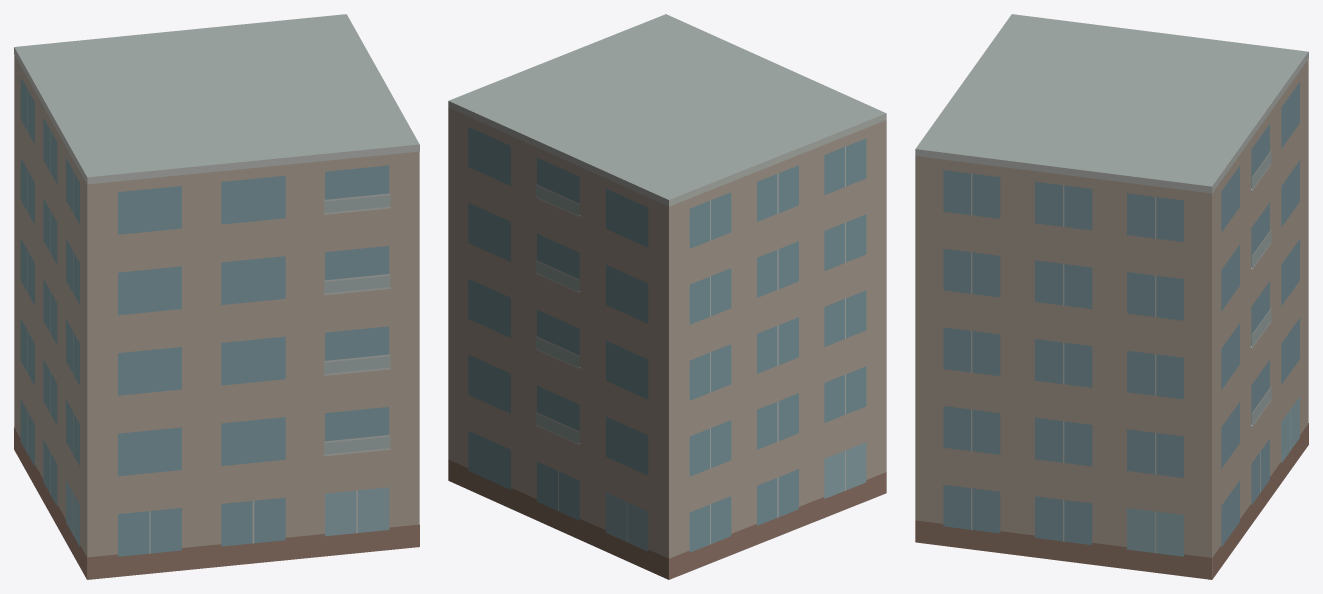
Rendered from survey-upis-32876112.glb.
3 views of the same model, side by side, from view 1: azimuth 30°, elevation 25°; view 2: azimuth 150°, elevation 25°; view 3: azimuth 270°, elevation 25° (orthographic). The views are drawn at different scales.
Visible parts, largest first — view 1: survey-upis-32876112.tmp; view 2: survey-upis-32876112.tmp; view 3: survey-upis-32876112.tmp.
Boxes of the visible parts, left/top/right/bottom form: survey-upis-32876112.tmp: left=14, top=14, right=419, bottom=579; survey-upis-32876112.tmp: left=448, top=14, right=886, bottom=579; survey-upis-32876112.tmp: left=915, top=14, right=1308, bottom=579.
Size of the model in its own units: 13.09 by 13.9 by 12.61.
